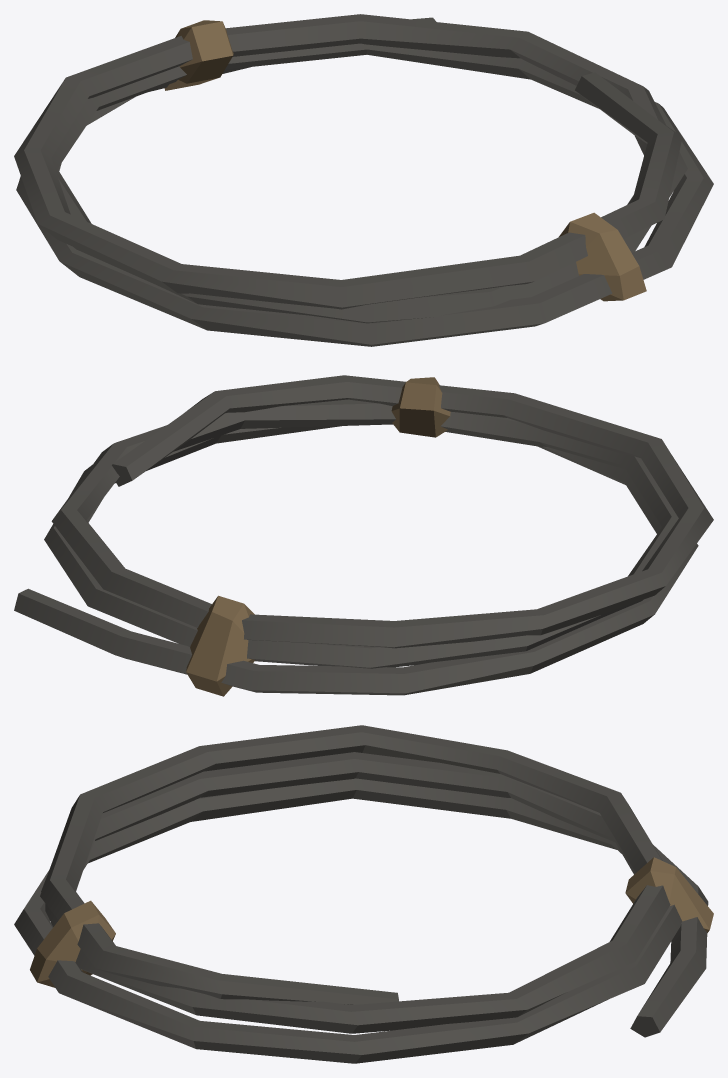
File: SM_Veh_Attach_Wire_01.fbx
The picture shows the model from 3 angles, top to bottom: view 1: azimuth 30°, elevation 25°; view 2: azimuth 150°, elevation 25°; view 3: azimuth 270°, elevation 25°; orthographic projection. The views are drawn at different scales.
Visible parts, largest first — view 1: SM_Veh_Attach_Wire_01; view 2: SM_Veh_Attach_Wire_01; view 3: SM_Veh_Attach_Wire_01.
Part boxes in pixels (bbox=[...]): SM_Veh_Attach_Wire_01: bbox=[14, 14, 713, 346]; SM_Veh_Attach_Wire_01: bbox=[14, 375, 713, 696]; SM_Veh_Attach_Wire_01: bbox=[14, 725, 713, 1063].
Size of the model in its own units: 130 by 16.16 by 131.
